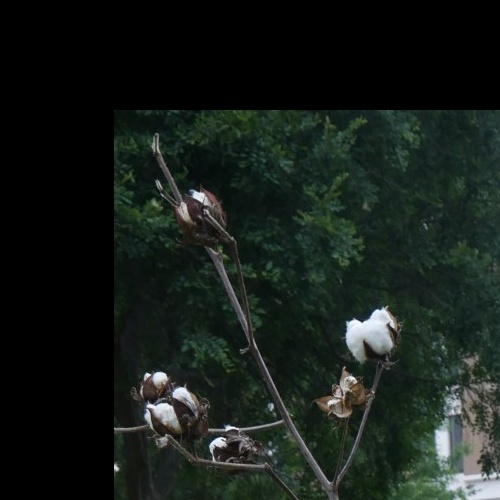mature_boll: (115, 353, 272, 483), (145, 166, 274, 270), (339, 289, 410, 404)
